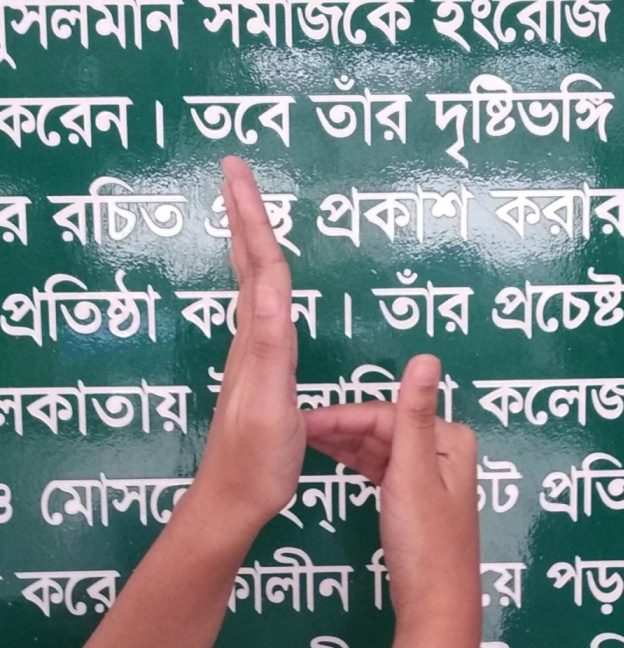ga: (193, 143, 479, 604)
